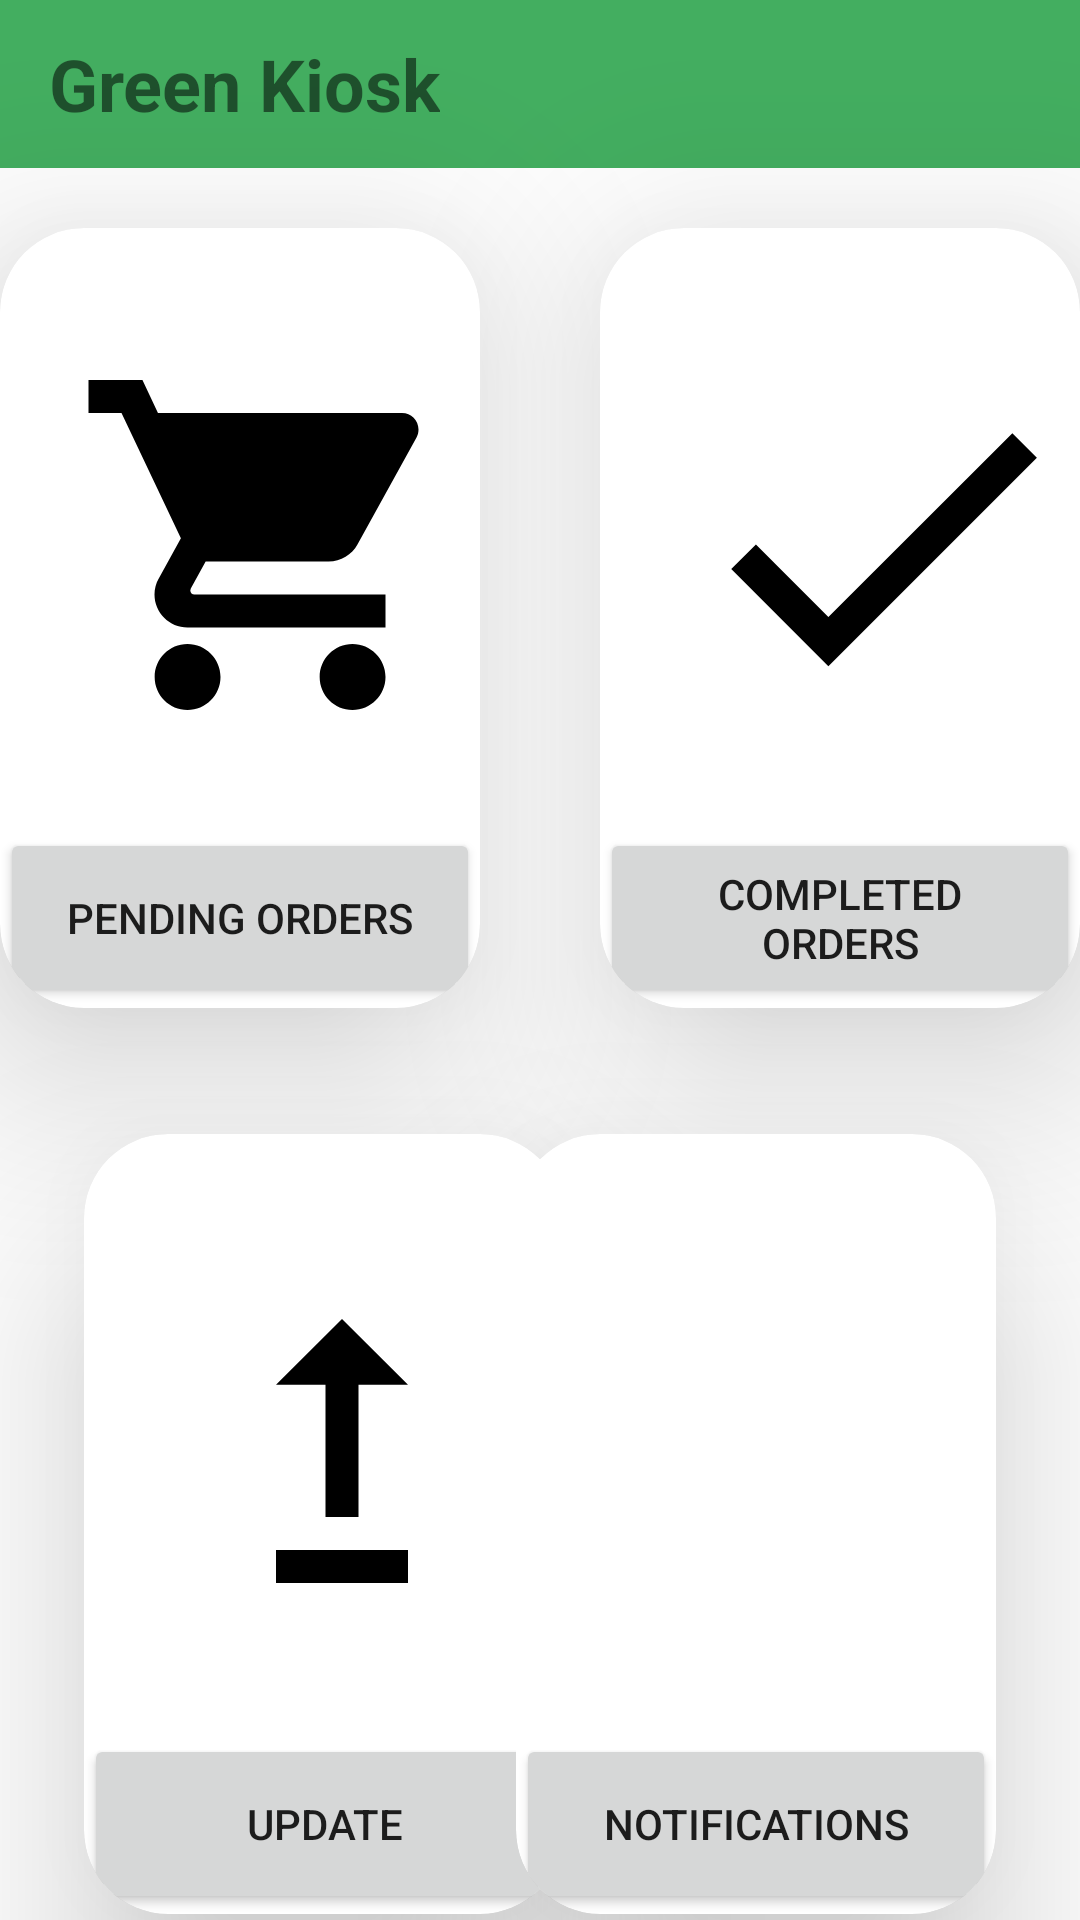

Locate icon controls on the screen. Image size 1080 × 1920, boxes as region(x1, y1, x2, y2).
check: region(731, 433, 1037, 666)
shopping cart: region(88, 380, 419, 710)
upgrade: region(276, 1319, 408, 1583)
